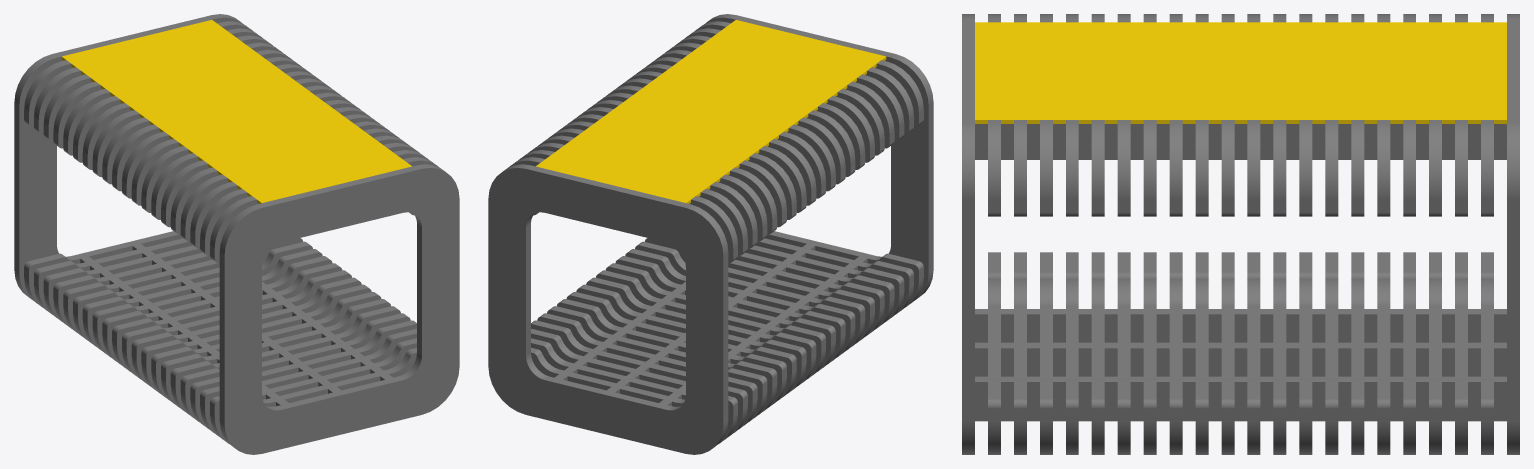
File: cube_1_gr_gold.glb
3 renders of one model, left to right at view 1: azimuth 30°, elevation 25°; view 2: azimuth 150°, elevation 25°; view 3: azimuth 270°, elevation 25°, orthographic. The views are drawn at different scales.
Visible parts, largest first — view 1: EDUCT08-P1, glass_cube1, EDUCT08-P025, EDUCT08-P029, EDUCT08-P030, EDUCT08-P028, EDUCT08-P034, EDUCT08-P031, EDUCT08-P036, EDUCT08-P035, EDUCT08-P037, EDUCT08-P039 (+34 smaller); view 2: EDUCT08-P025, glass_cube1, EDUCT08-P1, EDUCT08-P042, EDUCT08-P041, EDUCT08-P043, EDUCT08-P037, EDUCT08-P035, EDUCT08-P040, EDUCT08-P036, EDUCT08-P034, EDUCT08-P032 (+34 smaller); view 3: glass_cube1, EDUCT08-P048, EDUCT08-P046, EDUCT08-P047, EDUCT08-P005, EDUCT08-P025, EDUCT08-P1, EDUCT08-P030, EDUCT08-P031, EDUCT08-P032, EDUCT08-P033, EDUCT08-P034 (+35 smaller).
Boxes of the visible parts, x1,y1,x2,y2 form: EDUCT08-P1: (219,164,459,454); glass_cube1: (61,20,411,203); EDUCT08-P025: (14,14,242,300); EDUCT08-P029: (180,320,416,421); EDUCT08-P030: (170,313,410,414); EDUCT08-P028: (190,328,416,428); EDUCT08-P034: (131,284,371,386); EDUCT08-P031: (161,306,400,407); EDUCT08-P036: (112,270,351,371); EDUCT08-P035: (122,277,361,378); EDUCT08-P037: (102,263,342,364); EDUCT08-P039: (82,249,322,350); EDUCT08-P025: (488,164,728,454); glass_cube1: (536,20,886,203); EDUCT08-P1: (705,14,933,300); EDUCT08-P042: (531,320,767,421); EDUCT08-P041: (537,313,777,414); EDUCT08-P043: (531,328,757,428); EDUCT08-P037: (576,284,816,386); EDUCT08-P035: (596,270,835,371); EDUCT08-P040: (547,306,786,407); EDUCT08-P036: (586,277,825,378); EDUCT08-P034: (605,263,845,364); EDUCT08-P032: (625,249,865,350); glass_cube1: (975,22,1506,123); EDUCT08-P048: (975,376,1506,421); EDUCT08-P046: (975,342,1506,376); EDUCT08-P047: (975,309,1506,342); EDUCT08-P005: (975,124,1506,159); EDUCT08-P025: (1507,14,1519,454); EDUCT08-P1: (962,14,974,454); EDUCT08-P030: (1091,252,1104,454); EDUCT08-P031: (1117,252,1130,454); EDUCT08-P032: (1143,252,1156,454); EDUCT08-P033: (1169,252,1182,454); EDUCT08-P034: (1195,252,1208,454).
Bounding box in the file's own units: 0.5 × 0.5 × 0.774.
